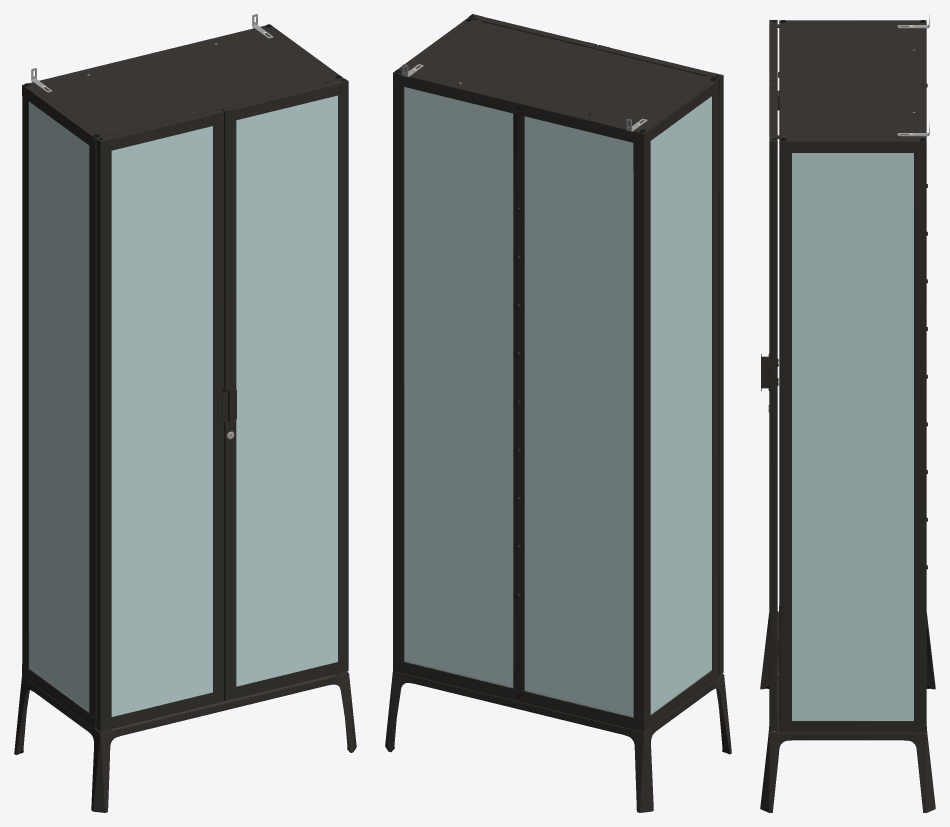
Rendered from storage-5.glb.
3 renders of one model, left to right at view 1: azimuth 30°, elevation 25°; view 2: azimuth 150°, elevation 25°; view 3: azimuth 270°, elevation 25°, orthographic.
Size of the model in its own units: 0.7245 by 1.78 by 0.4167.
Materials: 2 (1 with a texture image).
